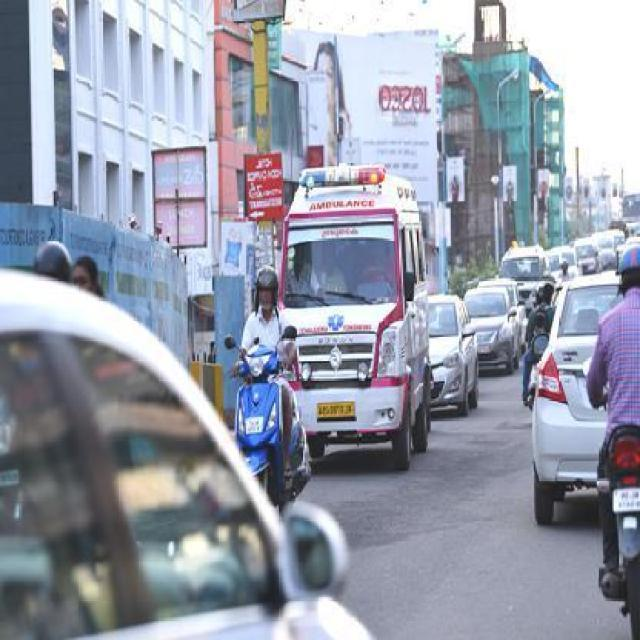emergency: (276, 162, 432, 470)
